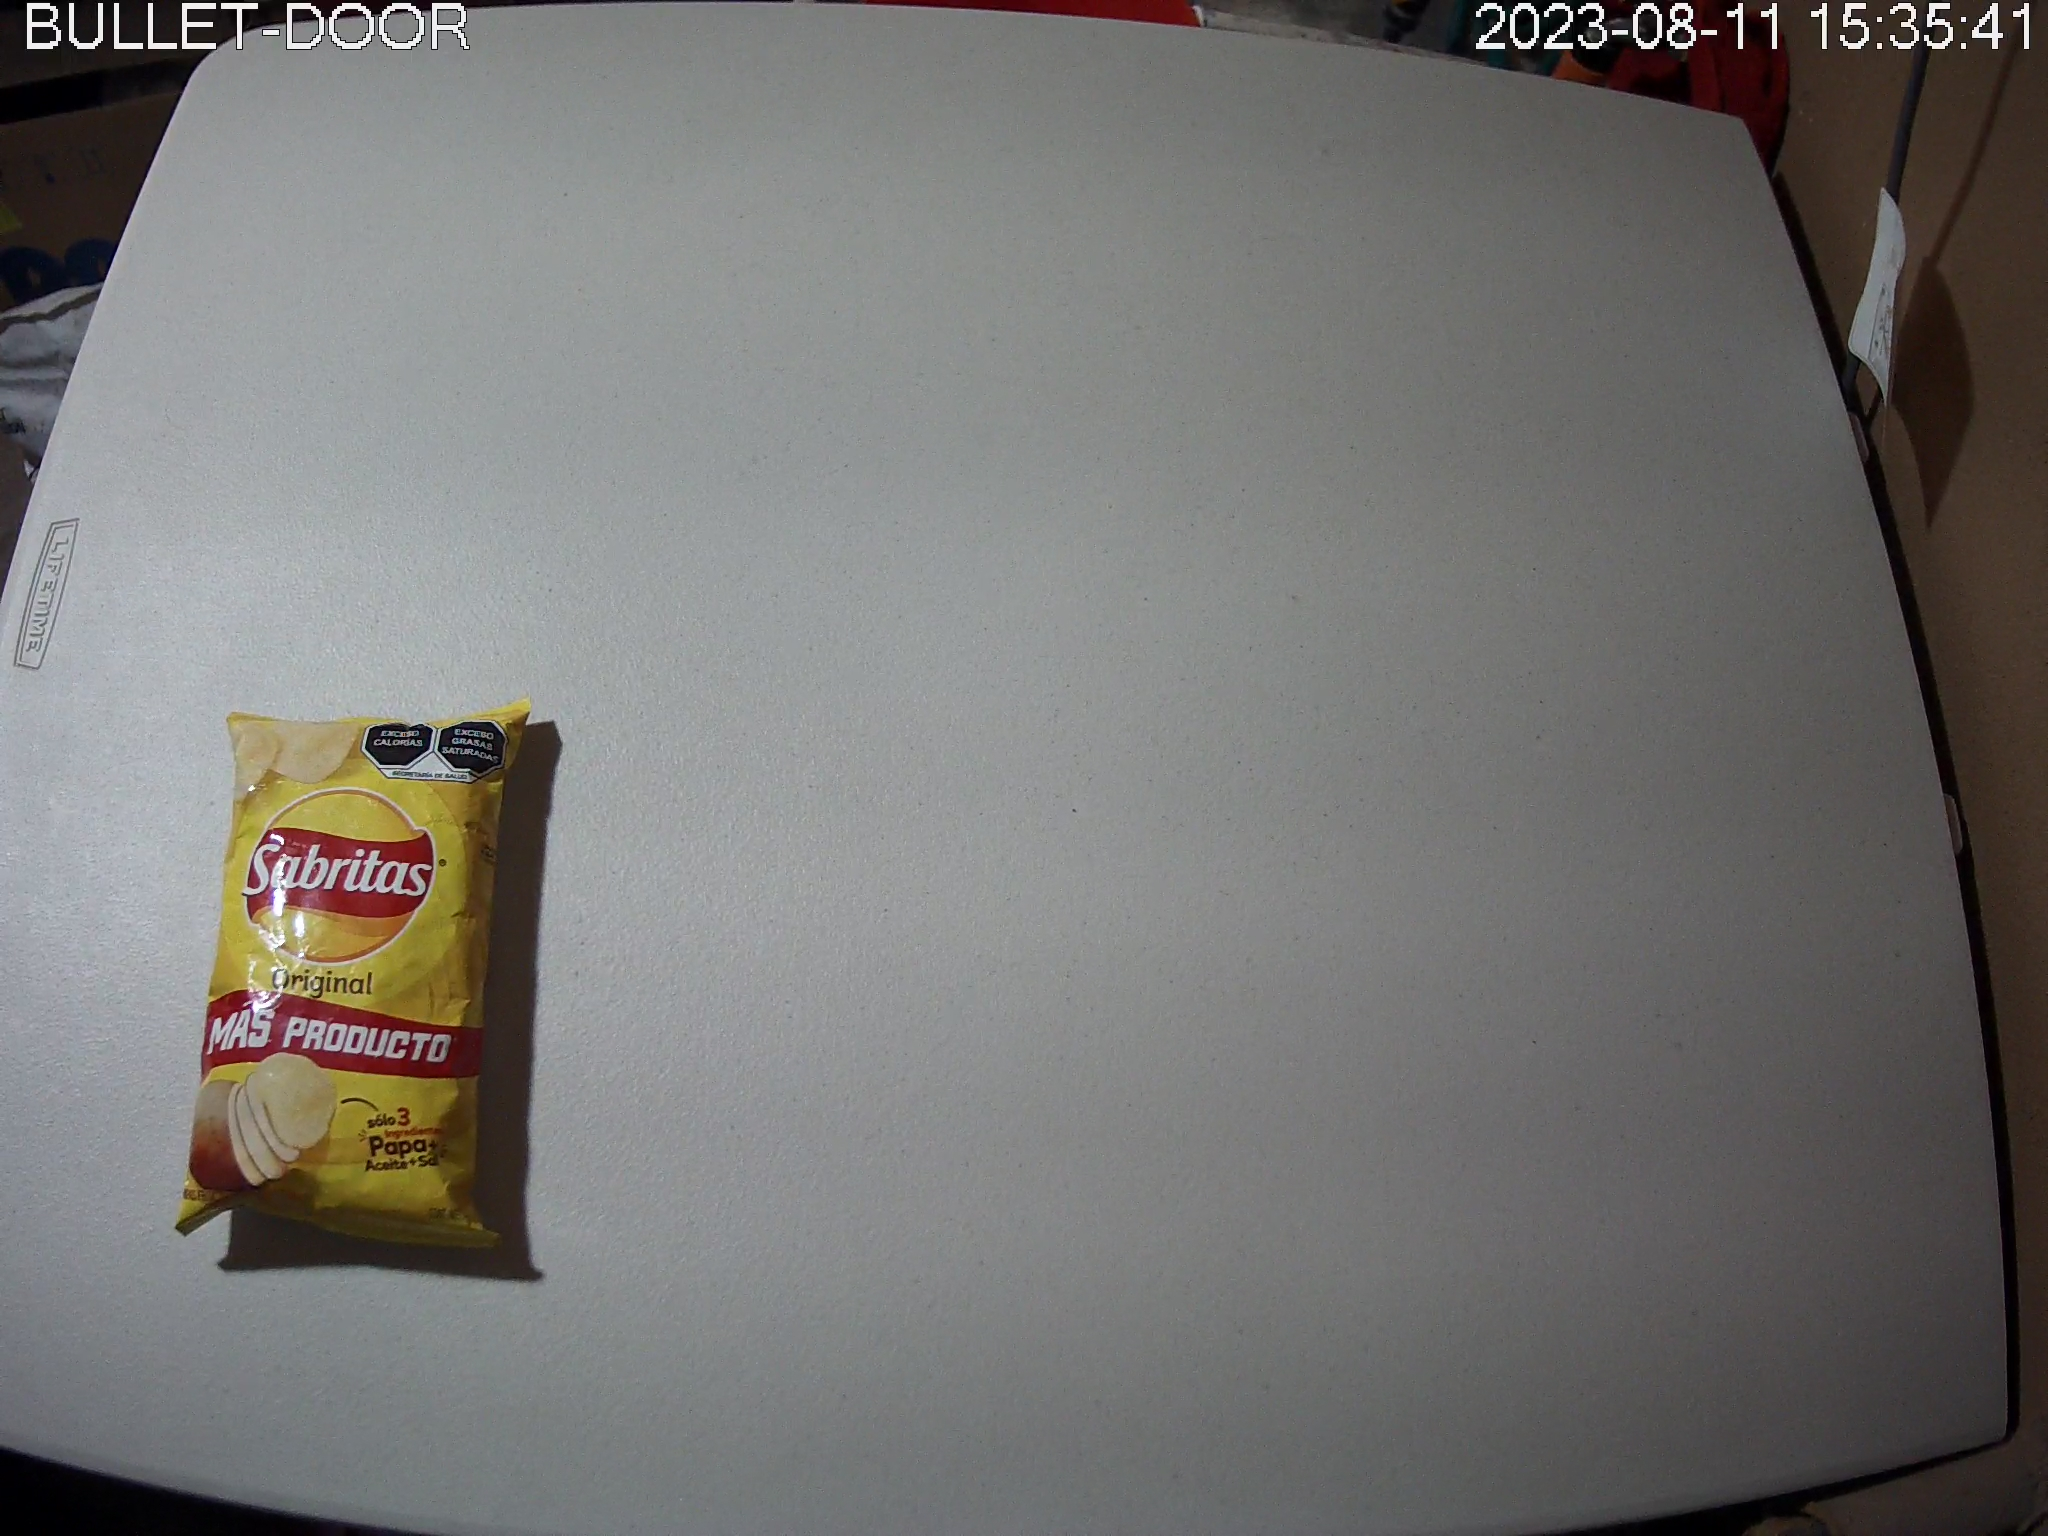Sabritas_45_F: (171, 692, 532, 1254)
